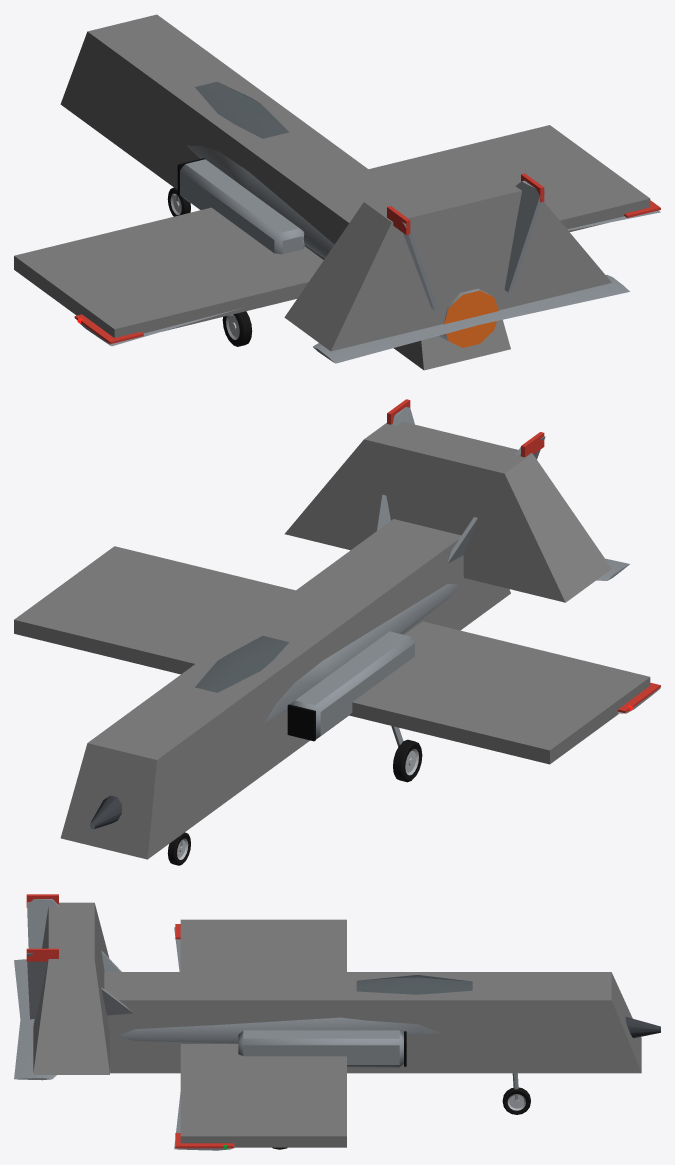
File: jet.glb
3 renders of one model, top to bottom at view 1: azimuth 30°, elevation 25°; view 2: azimuth 150°, elevation 25°; view 3: azimuth 270°, elevation 25°, orthographic. The views are drawn at different scales.
Visible parts, largest first — view 1: jet, jet_Body, jet_Wheel_L; view 2: jet, jet_Body, jet_Wheel_L; view 3: jet, jet_Body, jet_Wheel_N.
Boxes of the visible parts, x1=… form: jet: x1=14, y1=14, x2=650, y2=370; jet_Body: x1=74, y1=82, x2=660, y2=363; jet_Wheel_L: x1=222, y1=311, x2=252, y2=346; jet: x1=14, y1=421, x2=650, y2=859; jet_Body: x1=89, y1=399, x2=660, y2=846; jet_Wheel_L: x1=393, y1=739, x2=422, y2=782; jet: x1=33, y1=902, x2=641, y2=1147; jet_Body: x1=14, y1=894, x2=660, y2=1150; jet_Wheel_N: x1=502, y1=1087, x2=530, y2=1114.
Size of what is drawn, in the model's own units: 8.25 by 3.3 by 10.1.
